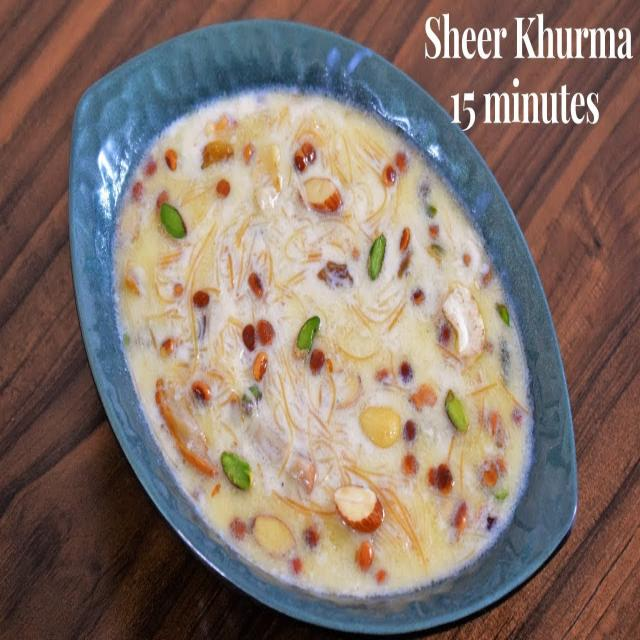shavige payasa: (101, 70, 540, 613)
